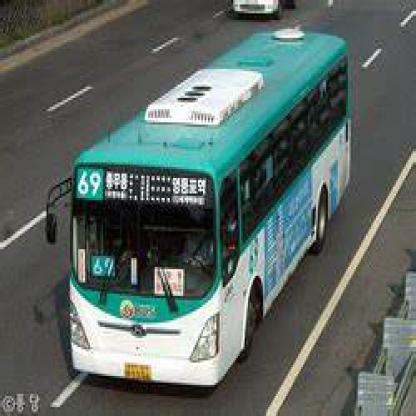bus: (63, 34, 356, 388)
